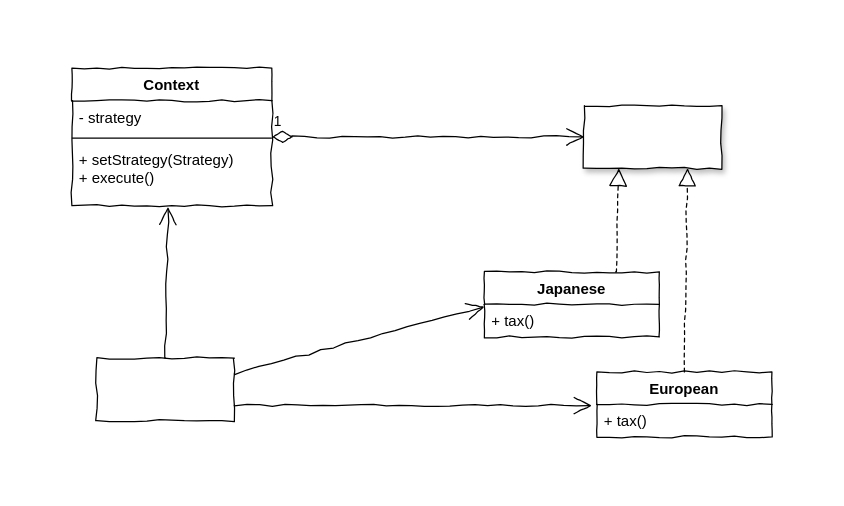
Some shapes in this 844 by 506 pixel diagram are drawn without their labels. Here are the shapes that lost their labels. From the top down, the centre of each, then its label:
At pixel 653 138: "«interface» Strategy".
At pixel 165 389: "Client".
